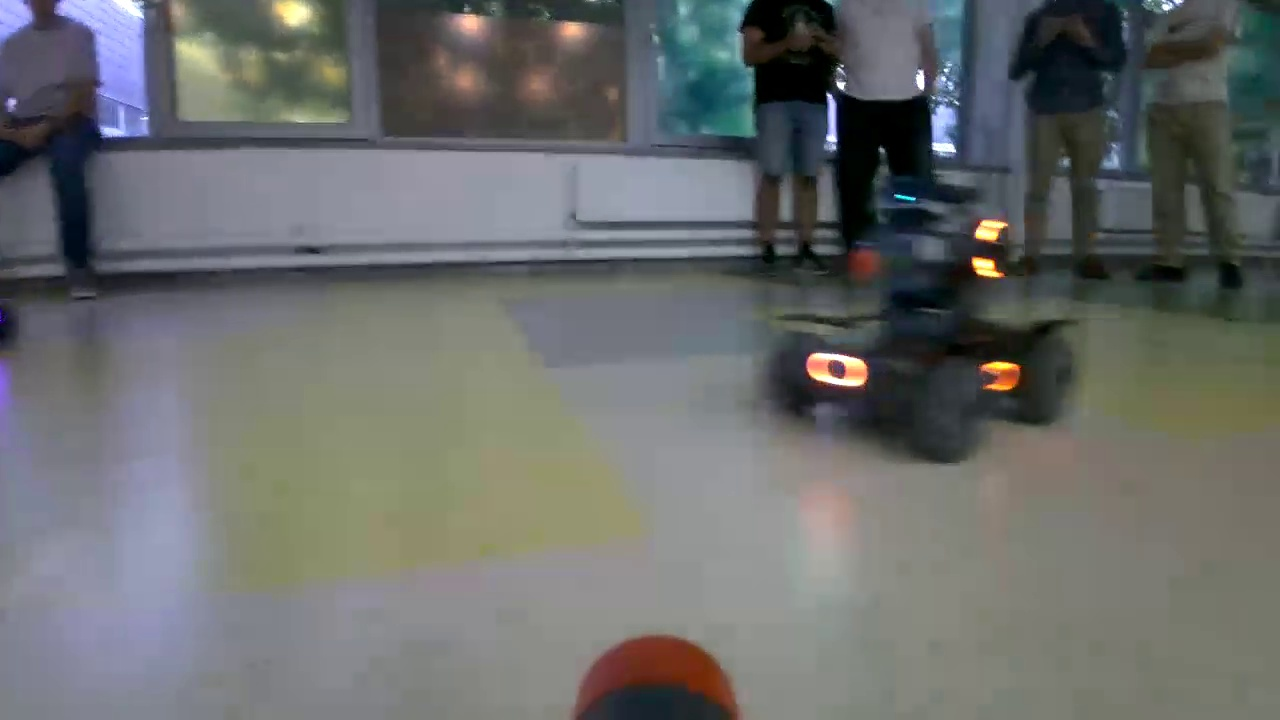robot: (752, 196, 1077, 463)
